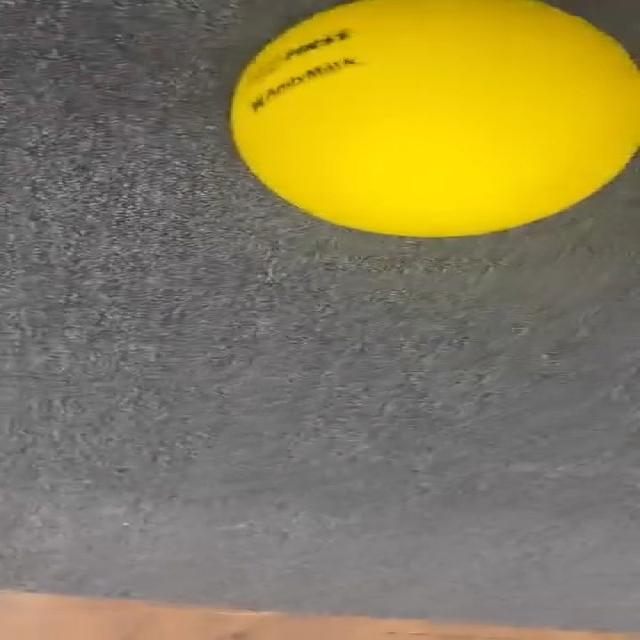Fuels: (226, 0, 640, 237)
